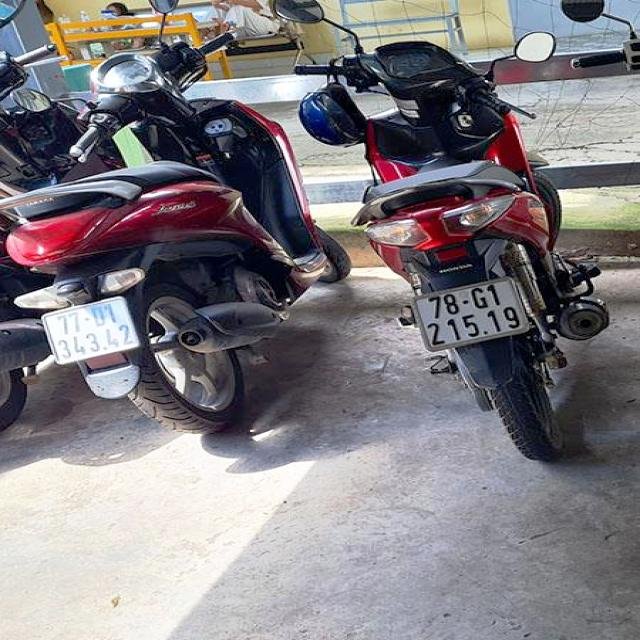license_plate: (418, 277, 541, 354), (46, 294, 146, 366)
